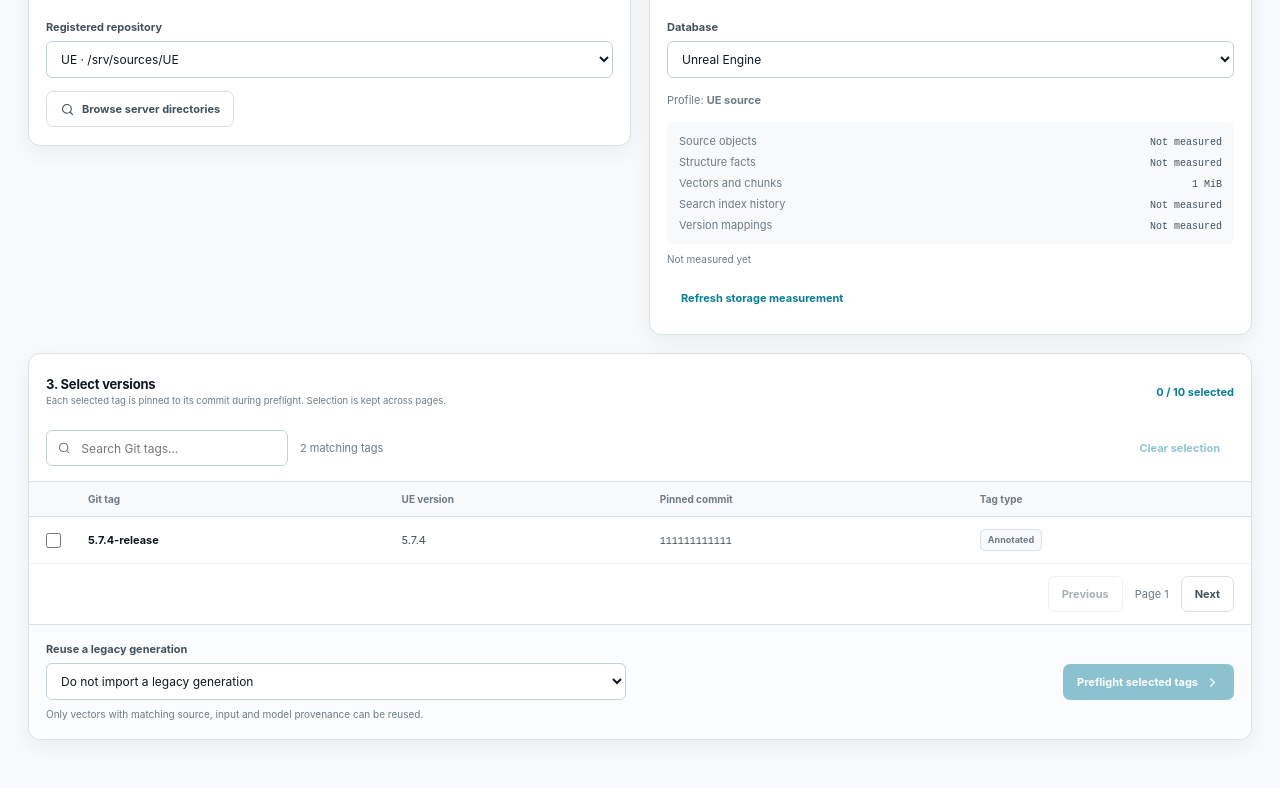
Test case: database administration › preserves tag selection across pages, submits the pinned preflight, and shows real job progress
(page scrolled)
Click the checkbox named "Select 5.7.4-release": (54, 540) [46,533,61,548]
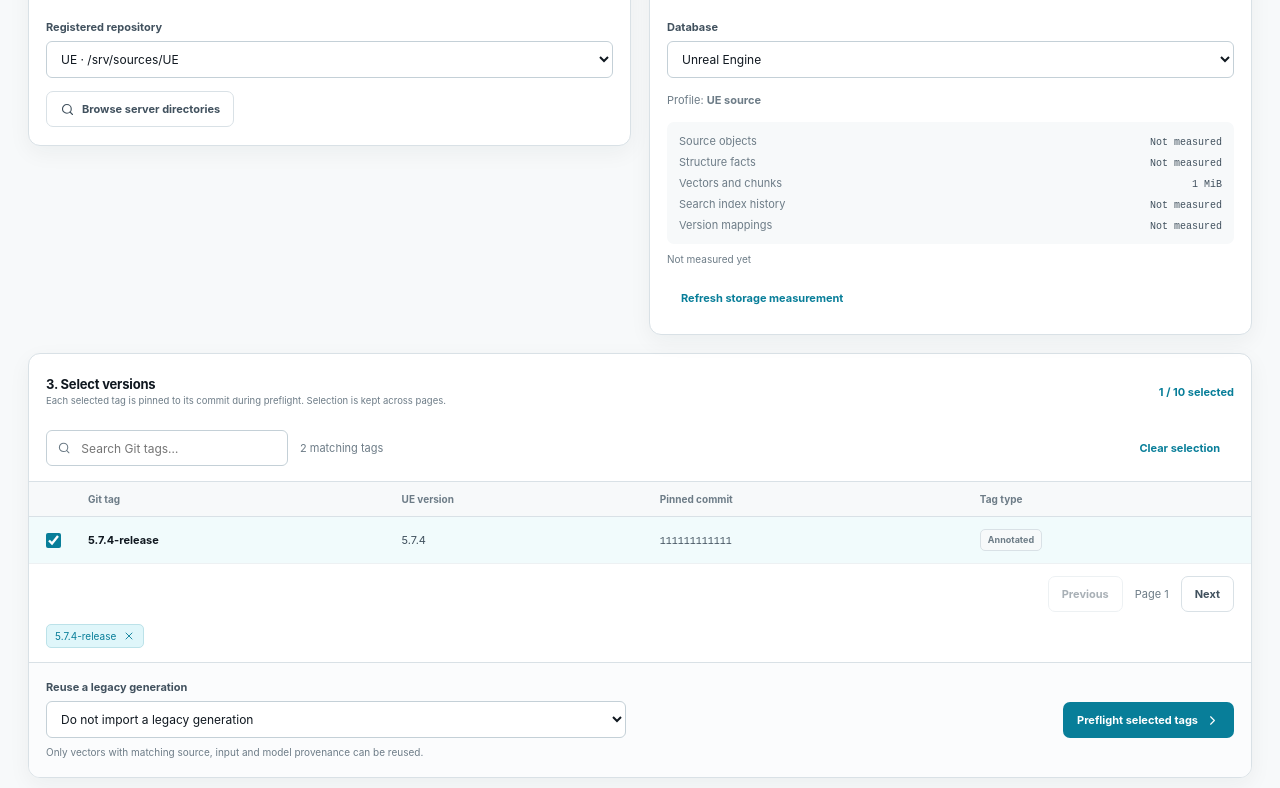
Click the button "Next": (1207, 594) [1181,576,1234,612]
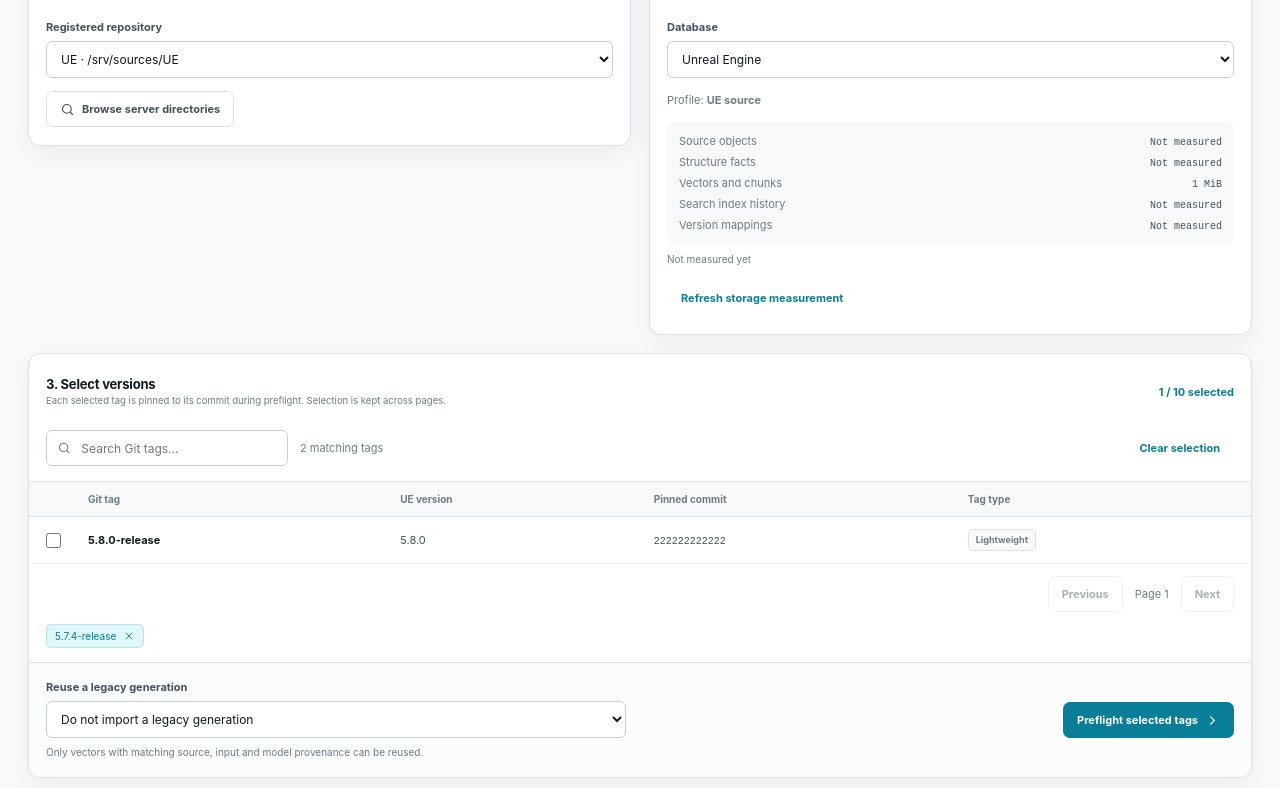
Click the checkbox named "Select 5.8.0-release": (54, 540) [46,533,61,548]
(page scrolled)
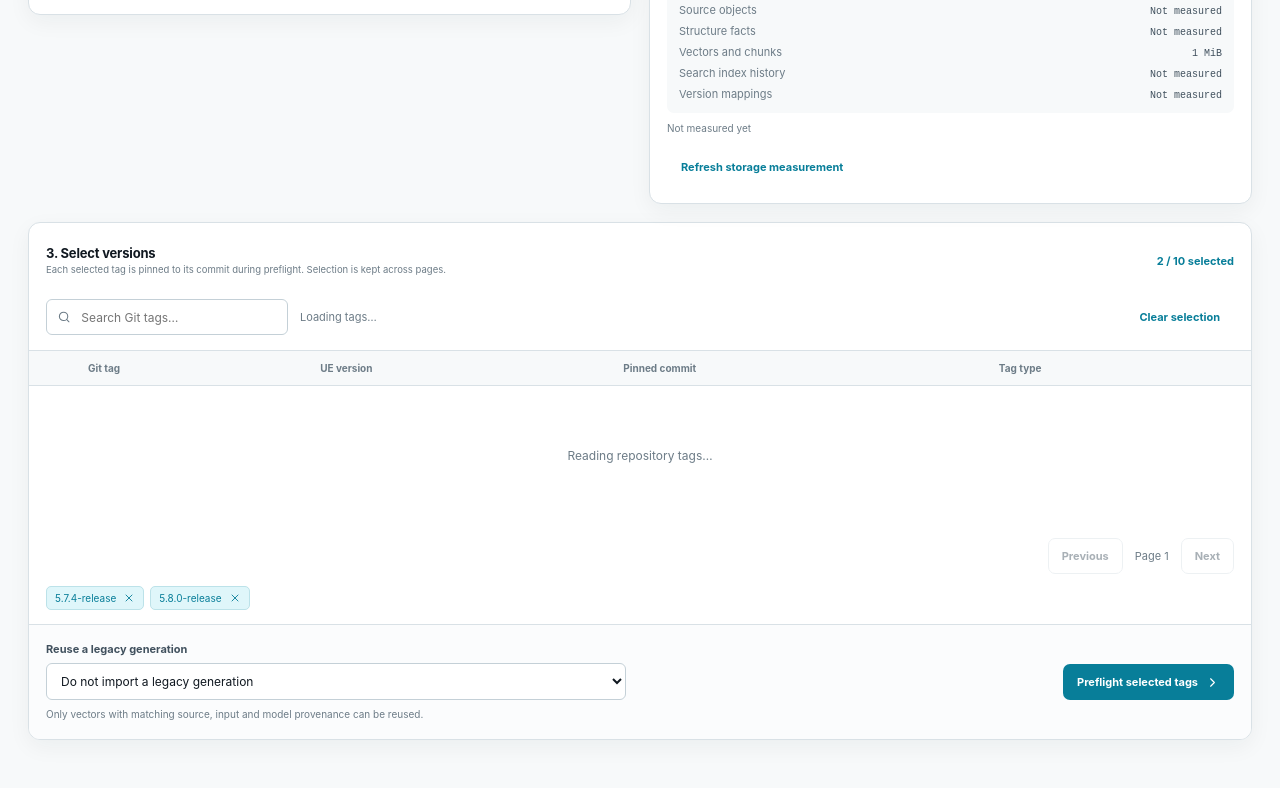
expect the text "2 / 10 selected" is shown: met, box [1157,254,1234,268]
Select "ue-old · old-1 · test-embedding" in the dropdown labelled "Reuse a legacy generation": (336, 682) [46,663,626,700]
Click the button "Preflight selected tags": (1148, 682) [1063,664,1234,700]
(page scrolled)
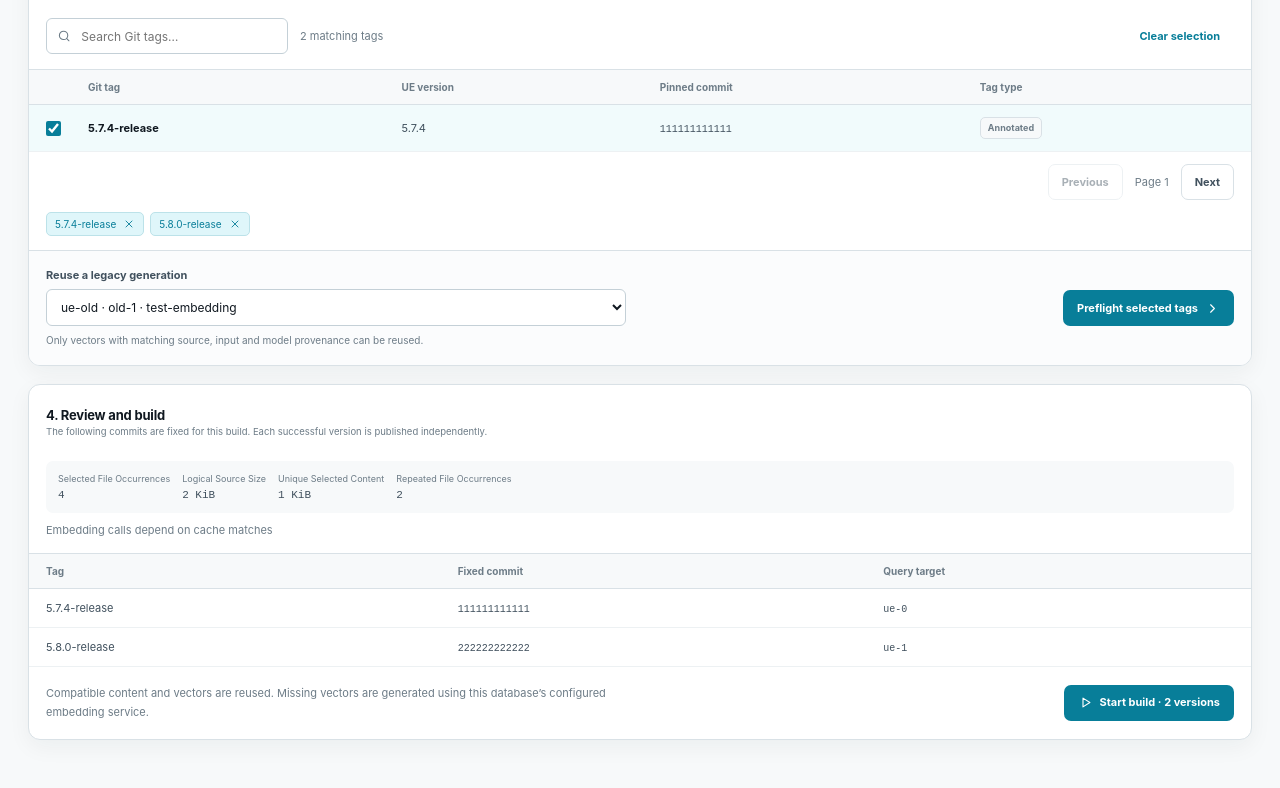
expect the heading "4. Review and build" is shown: met, box [46,407,165,423]
expect the text "Embedding calls depend on cache matches" is shown: met, box [46,523,273,537]
Click the button "Start build · 2 versions": (1149, 703) [1064,685,1234,721]
(page scrolled)
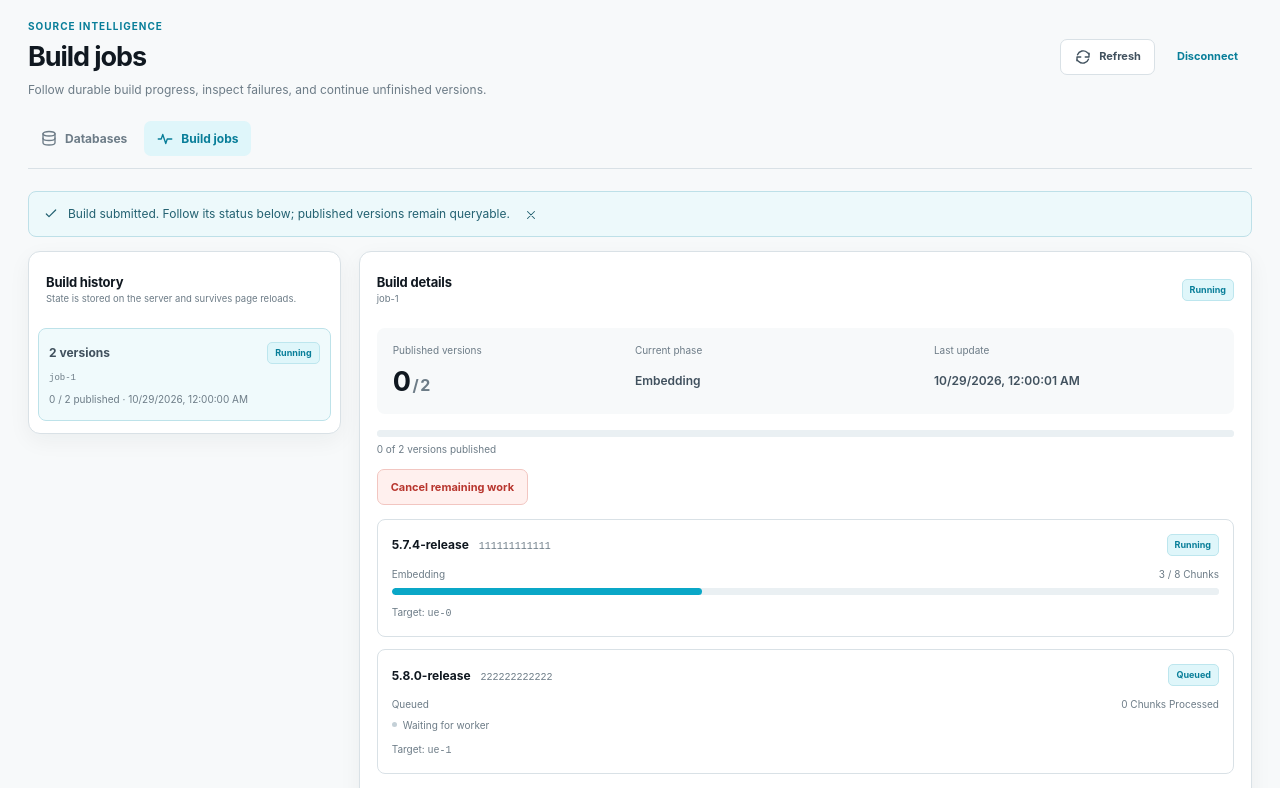
expect the heading "Build details" is shown: met, box [377,274,452,290]
Click the button "Cancel remaining work": (452, 487) [377,469,528,505]
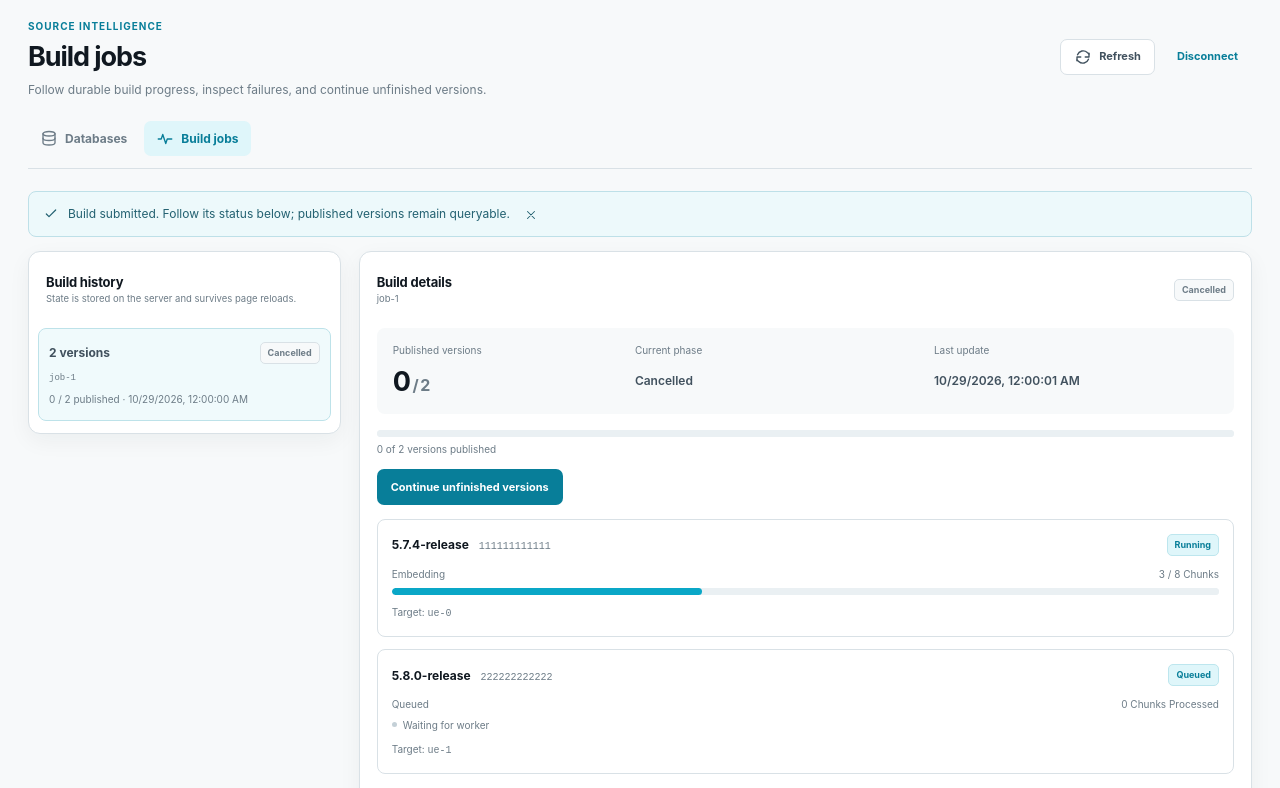
expect the button "Continue unfinished versions" is shown: met, box [377,469,563,505]
